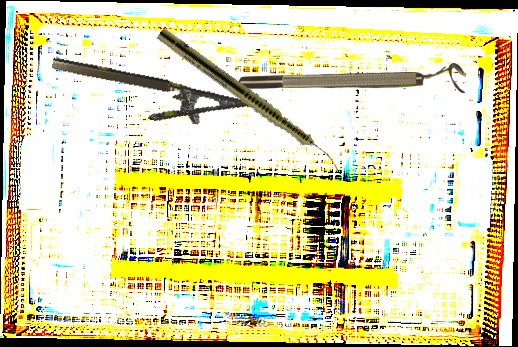Fixation Ring: (239, 63, 466, 93)
Handpiece: (154, 26, 347, 174)
Needle Holder: (45, 55, 268, 143)
